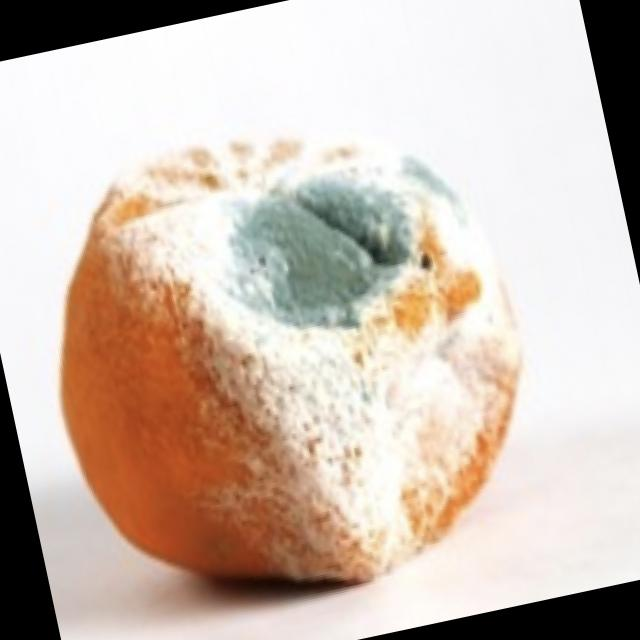rotten-orange: (11, 89, 560, 636)
